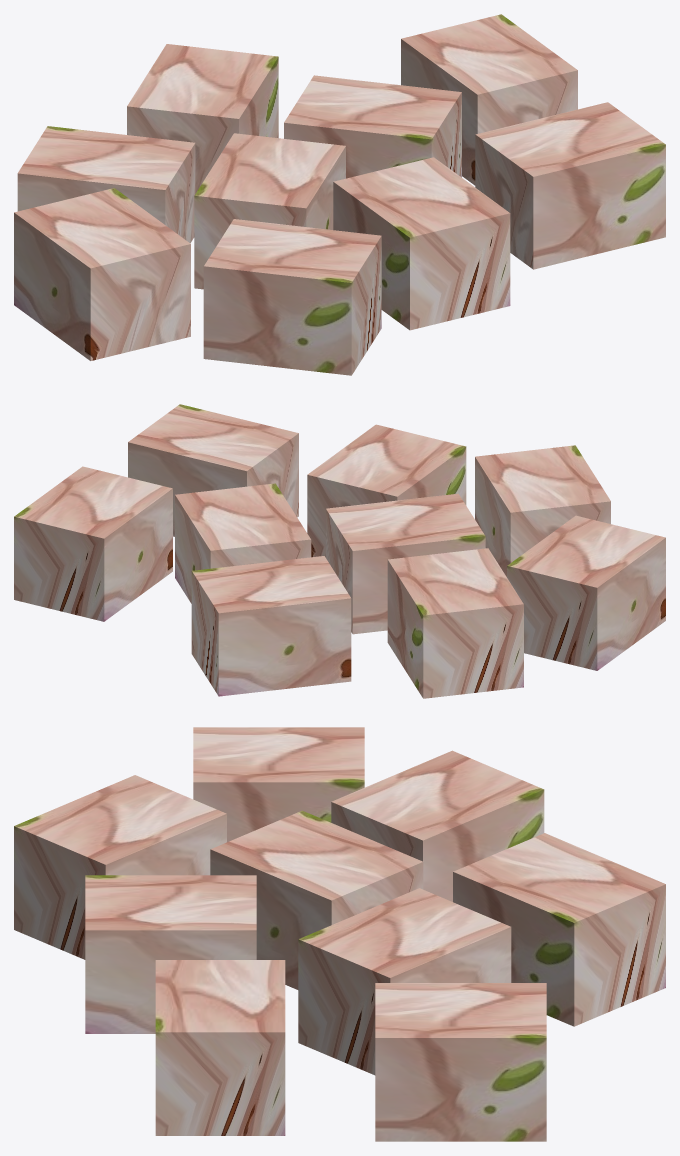
Rendered from PESCADO_CORTADO_PRP.fbx.
3 renders of one model, top to bottom at view 1: azimuth 30°, elevation 25°; view 2: azimuth 150°, elevation 25°; view 3: azimuth 270°, elevation 25°, orthographic. The views are drawn at different scales.
Parts seen in each view (by area): view 1: PESCADO_CORTADO_PRP; view 2: PESCADO_CORTADO_PRP; view 3: PESCADO_CORTADO_PRP.
Part boxes in pixels (x1,y1,x2,y2): PESCADO_CORTADO_PRP: (14,14,665,375); PESCADO_CORTADO_PRP: (14,404,665,698); PESCADO_CORTADO_PRP: (14,727,665,1141).
Size of the model in its own units: 6.41 by 0.9993 by 5.69.
Materials: 1 (1 with a texture image).
